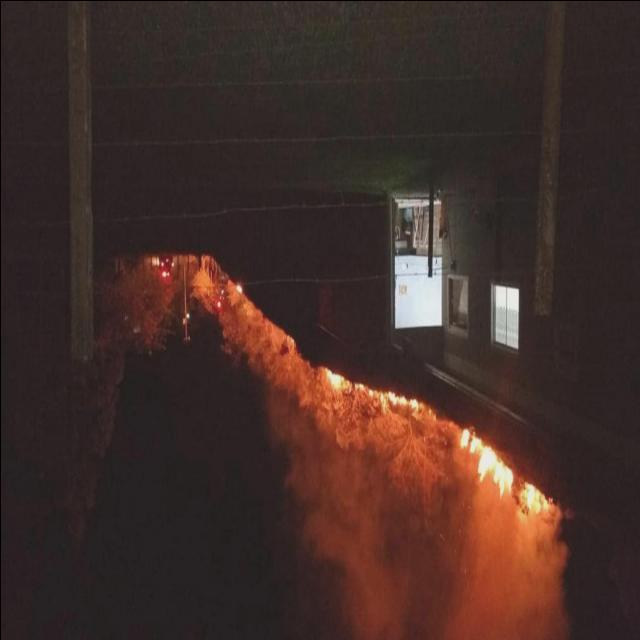Fire: (460, 424, 510, 494), (352, 381, 417, 412), (518, 480, 550, 522), (324, 368, 344, 392)
